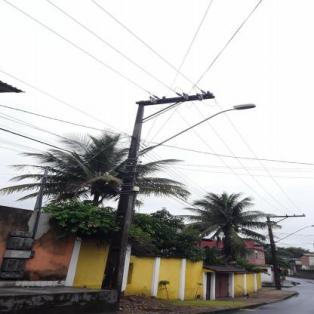Poste: (98, 98, 150, 290)
